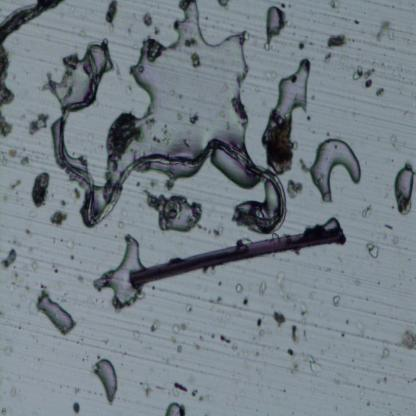Air bubble: (127, 1, 248, 139), (310, 136, 361, 204), (96, 238, 144, 308), (266, 57, 314, 121), (142, 188, 203, 234), (46, 56, 88, 98), (38, 293, 76, 336), (92, 356, 118, 404), (392, 165, 416, 215), (264, 3, 286, 41), (164, 401, 183, 415)
Background material: (262, 117, 292, 175), (0, 48, 13, 138), (32, 169, 50, 208), (352, 65, 376, 89), (3, 267, 25, 291), (153, 123, 172, 148), (8, 146, 31, 166), (30, 112, 48, 137), (375, 21, 393, 45), (399, 328, 416, 351), (362, 241, 381, 260), (48, 207, 67, 226), (307, 354, 325, 374), (326, 33, 348, 48), (105, 1, 118, 26), (135, 380, 153, 398), (0, 249, 17, 268), (272, 306, 288, 326), (288, 178, 303, 198), (389, 135, 404, 154), (298, 300, 309, 325), (290, 323, 302, 345), (204, 224, 223, 237), (298, 156, 311, 175), (172, 380, 189, 394), (22, 260, 40, 273), (277, 289, 292, 303), (148, 318, 162, 333), (321, 52, 335, 66), (192, 52, 202, 70), (27, 299, 38, 315), (381, 339, 389, 361), (262, 40, 275, 53), (275, 271, 285, 287), (165, 356, 178, 368), (10, 177, 22, 190), (184, 36, 197, 48), (217, 334, 232, 344), (189, 112, 201, 124), (144, 12, 153, 28), (289, 362, 299, 376), (357, 321, 365, 338), (297, 37, 306, 52), (348, 275, 360, 286), (149, 177, 160, 189), (364, 205, 374, 218), (0, 150, 8, 166), (258, 282, 267, 296), (10, 237, 21, 248), (376, 86, 386, 98), (66, 236, 74, 251), (332, 294, 341, 307), (182, 135, 191, 148), (234, 282, 243, 295), (146, 117, 156, 128), (107, 22, 116, 34), (266, 70, 278, 79), (99, 336, 112, 344), (331, 375, 341, 385), (241, 32, 251, 42), (328, 0, 338, 10), (73, 385, 82, 396), (52, 264, 61, 275), (132, 329, 140, 341), (180, 322, 188, 334), (72, 188, 80, 199), (78, 274, 86, 285), (0, 404, 7, 416), (302, 328, 308, 342), (74, 402, 80, 416), (254, 83, 262, 93), (218, 108, 226, 118), (26, 244, 34, 254), (24, 282, 32, 292), (154, 384, 165, 391), (190, 388, 198, 397), (75, 337, 84, 345), (4, 346, 12, 355), (286, 347, 294, 356), (385, 222, 394, 230), (215, 294, 223, 303), (184, 303, 192, 312), (9, 386, 16, 396), (118, 220, 125, 230), (153, 27, 160, 37), (241, 298, 249, 306), (40, 282, 48, 290), (120, 350, 128, 358), (256, 318, 263, 327), (61, 198, 68, 207), (2, 193, 9, 202), (121, 207, 128, 216), (176, 111, 183, 120), (220, 0, 230, 6), (392, 235, 398, 245), (176, 344, 182, 354), (173, 324, 180, 332), (209, 297, 214, 308), (382, 228, 387, 239), (292, 140, 297, 151), (254, 349, 260, 358), (287, 20, 293, 29), (199, 393, 205, 401), (359, 390, 365, 398), (26, 229, 32, 237), (324, 266, 332, 272), (354, 19, 360, 27), (217, 278, 223, 286), (226, 122, 232, 130), (29, 210, 37, 216), (136, 179, 142, 187), (258, 328, 264, 336), (252, 334, 258, 342), (232, 341, 237, 350), (171, 335, 176, 344), (96, 353, 102, 360), (78, 30, 85, 36), (194, 342, 199, 350), (411, 376, 416, 384), (70, 252, 74, 262), (340, 332, 346, 338), (332, 406, 338, 412), (235, 350, 240, 357), (171, 89, 176, 96), (234, 302, 238, 310), (118, 244, 122, 252), (127, 26, 132, 32), (345, 318, 350, 324), (180, 93, 184, 100), (211, 332, 215, 339), (384, 375, 387, 384), (198, 336, 204, 340), (357, 384, 361, 390), (105, 222, 108, 230), (351, 356, 355, 362), (366, 400, 370, 406), (377, 378, 380, 384), (288, 2, 291, 8), (283, 388, 286, 393), (81, 358, 86, 361), (97, 266, 100, 271), (60, 238, 63, 243), (206, 16, 209, 20), (291, 51, 294, 55), (389, 403, 390, 406)
Cellulose filter fibre: (48, 41, 288, 233), (0, 0, 62, 47)
Microfibre: (129, 226, 349, 288)
